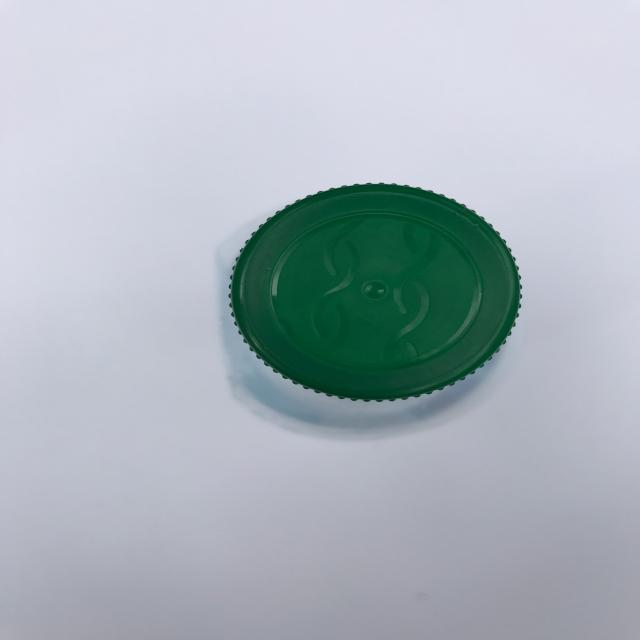Plastic: (180, 164, 542, 452)
